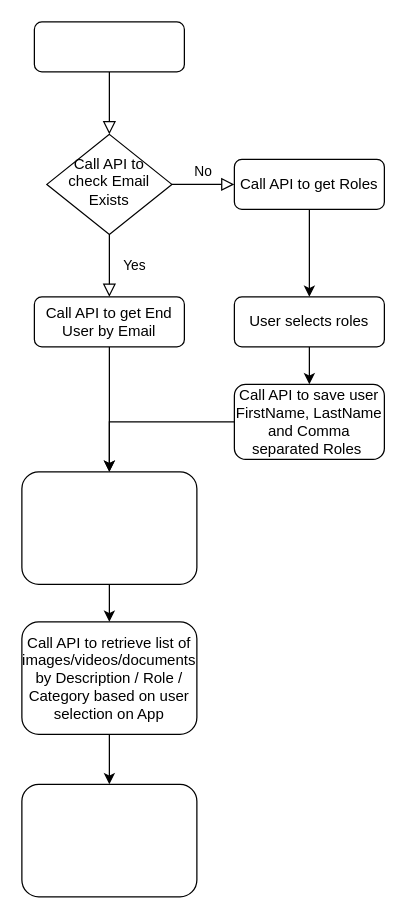
Some shapes in this 406 by 919 pixel diagram are drawn without their labels. The centre of each missing label's shape, as x and y in pixels:
"Call API to retrieve list of images/videos/documents by Comma separated Roles" belongs at pixel 109 527.
"Login using Google/ FB" belongs at pixel 108 46.
"On Click on Video/Document/Photo call API to update viewCount passing ID of link" belongs at pixel 109 840.
